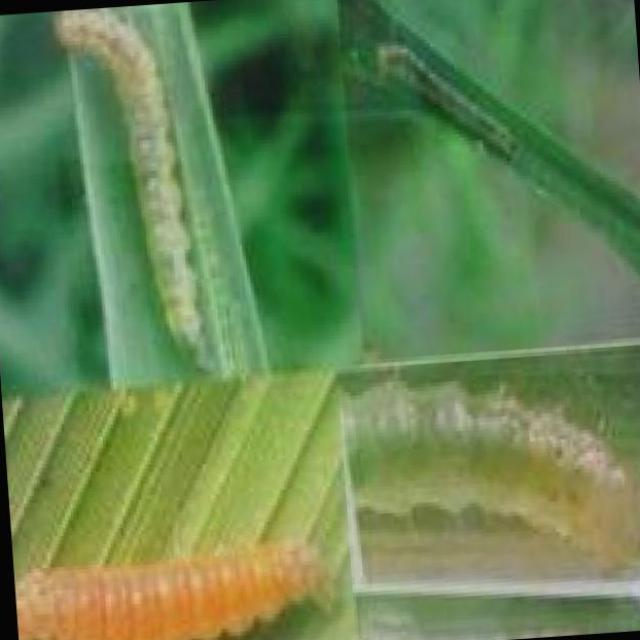leaf folder: (344, 381, 640, 579), (56, 10, 203, 348), (17, 544, 319, 640), (376, 22, 520, 161)
